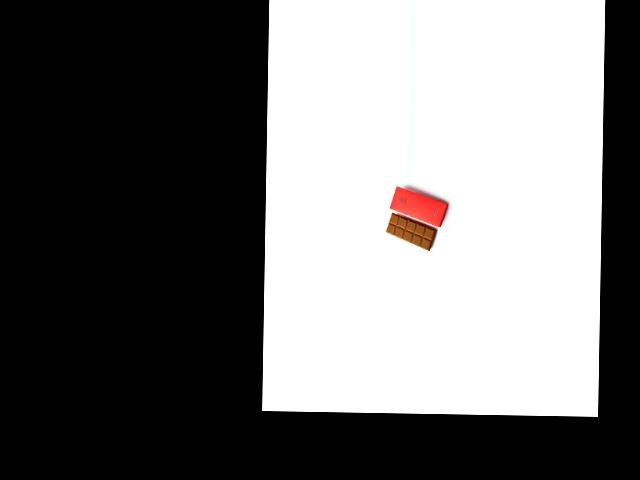chocolate: (385, 210, 439, 250)
